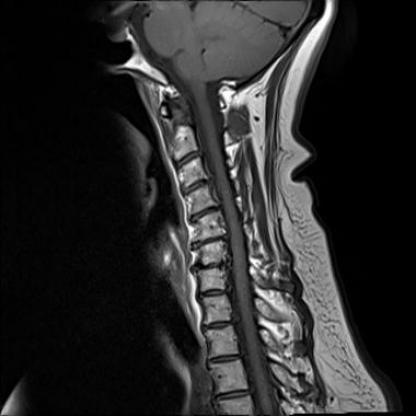Disc Bulgerotation: (191, 233, 231, 250), (190, 258, 236, 272)
